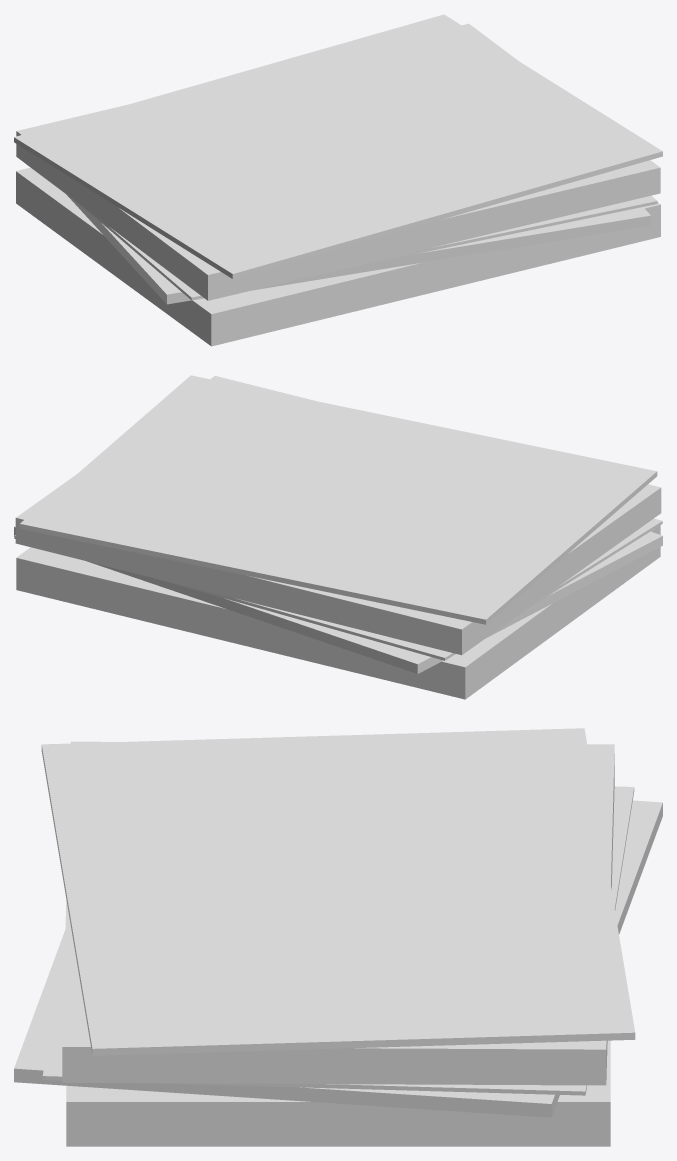
Rendered from 518 Paper.obj.
3 views of the same model, one above another, from view 1: azimuth 30°, elevation 25°; view 2: azimuth 150°, elevation 25°; view 3: azimuth 270°, elevation 25° (orthographic). The views are drawn at different scales.
Visible parts, largest first — view 1: Paper; view 2: Paper; view 3: Paper.
Part boxes in pixels (bbox=[...]): Paper: bbox=[14, 14, 662, 346]; Paper: bbox=[14, 375, 662, 699]; Paper: bbox=[14, 728, 662, 1146].
Bounding box in the file's own units: 58.88 × 8.6 × 47.91.
1 material, 1 textured.
